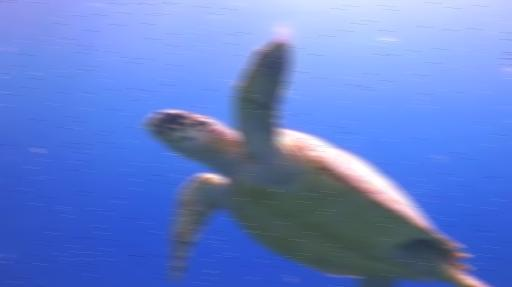Fish: (145, 39, 474, 286)
